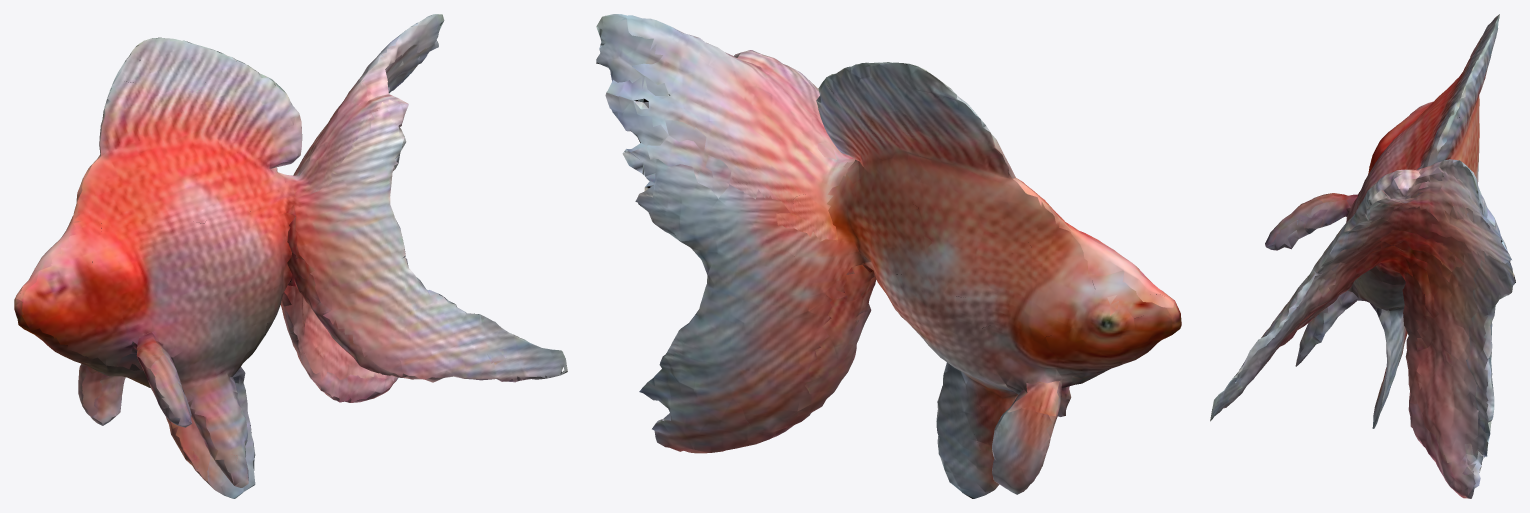
The picture shows the model from 3 angles, left to right: view 1: azimuth 30°, elevation 25°; view 2: azimuth 150°, elevation 25°; view 3: azimuth 270°, elevation 25°; orthographic projection. The views are drawn at different scales.
Visible parts, largest first — view 1: world; view 2: world; view 3: world.
Boxes of the visible parts, x1,y1,x2,y2 form: world: [14, 14, 567, 498]; world: [596, 14, 1181, 498]; world: [1210, 14, 1515, 498].
Size of the model in its own units: 0.9518 by 0.8243 by 0.5669.
1 material, 1 textured.
